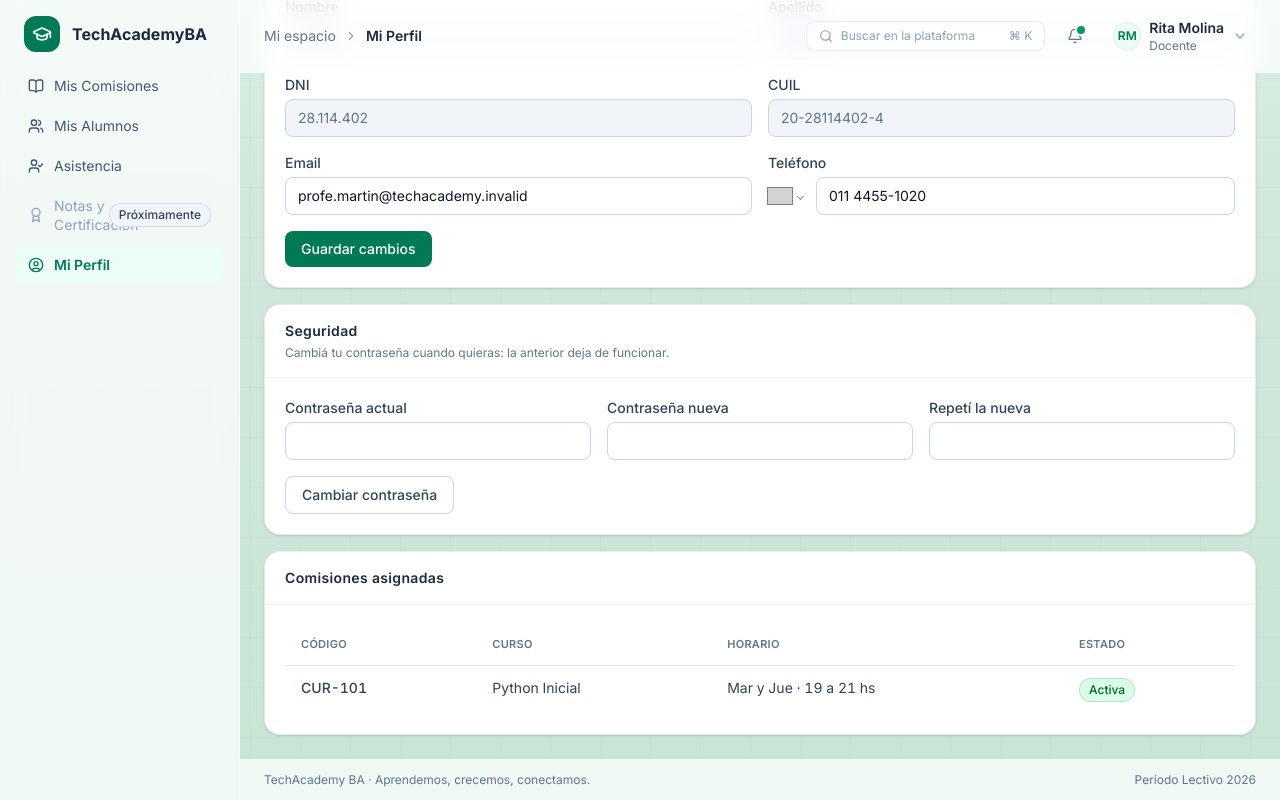
Test case: seguridad › cambia la contraseña con la actual correcta
This screenshot has width=1280, height=800.
(page scrolled)
Expected: the field showing "profe.martin@techacademy.invalid" is shown, [285, 177, 752, 215]
Type "Demo2026!" into the password field labelled "Contraseña actual" at (438, 441), box [285, 422, 591, 460]
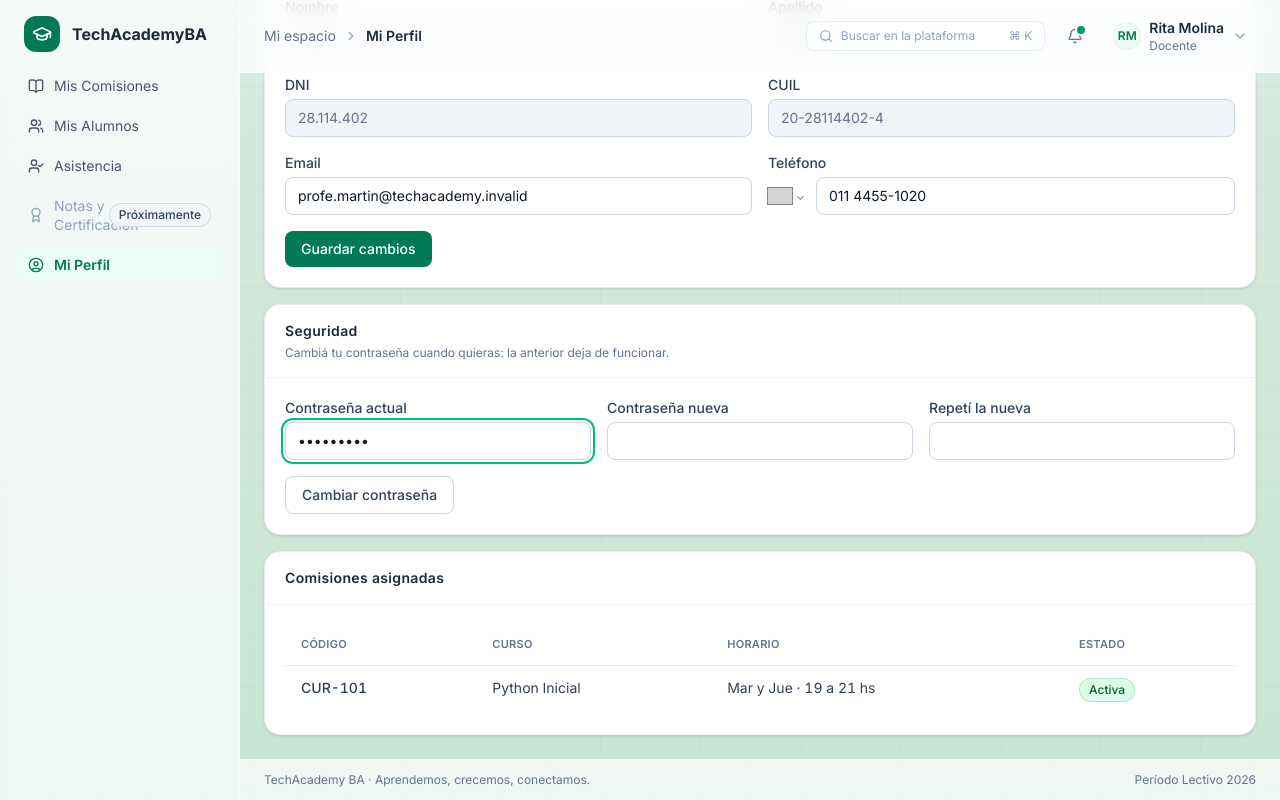
Type "NuevaClave123!" into the password field labelled "Contraseña nueva" at (760, 441), box [607, 422, 913, 460]
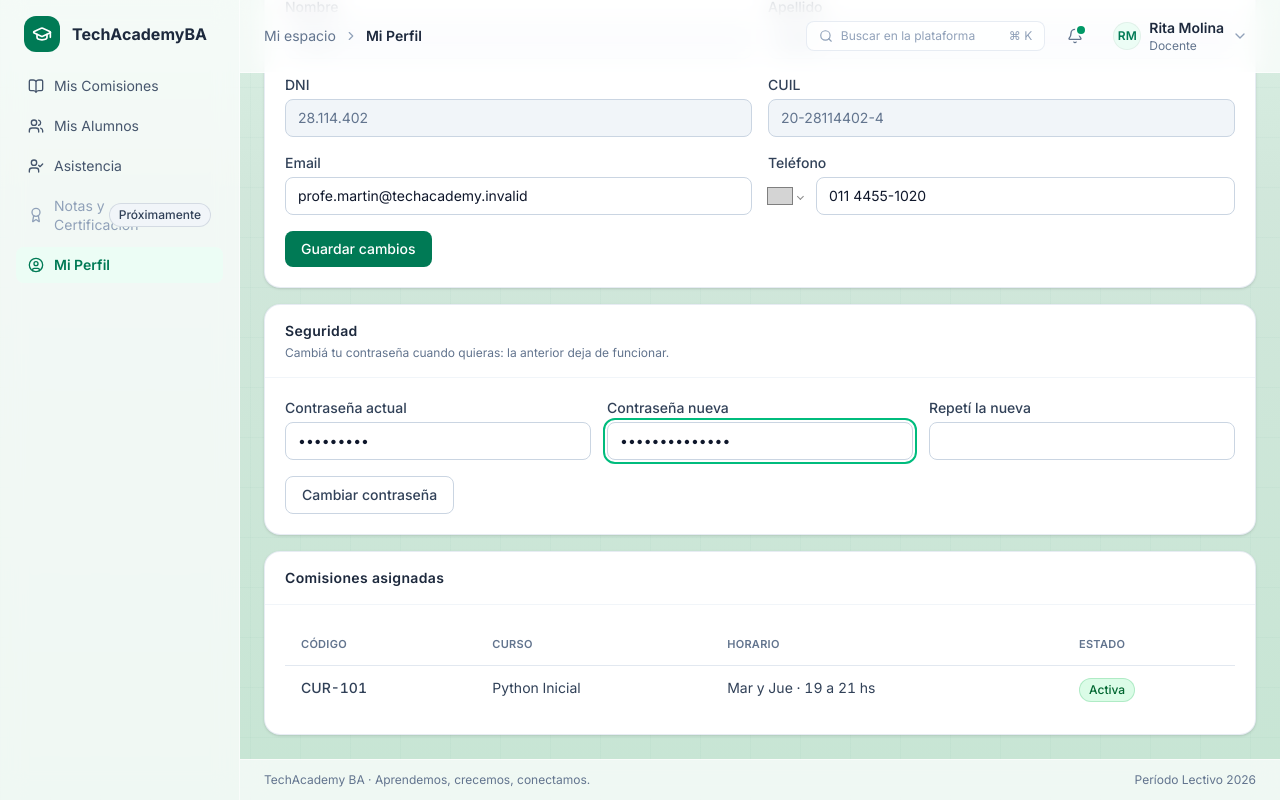
Type "NuevaClave123!" into the password field labelled "Repetí la nueva" at (1082, 441), box [929, 422, 1235, 460]
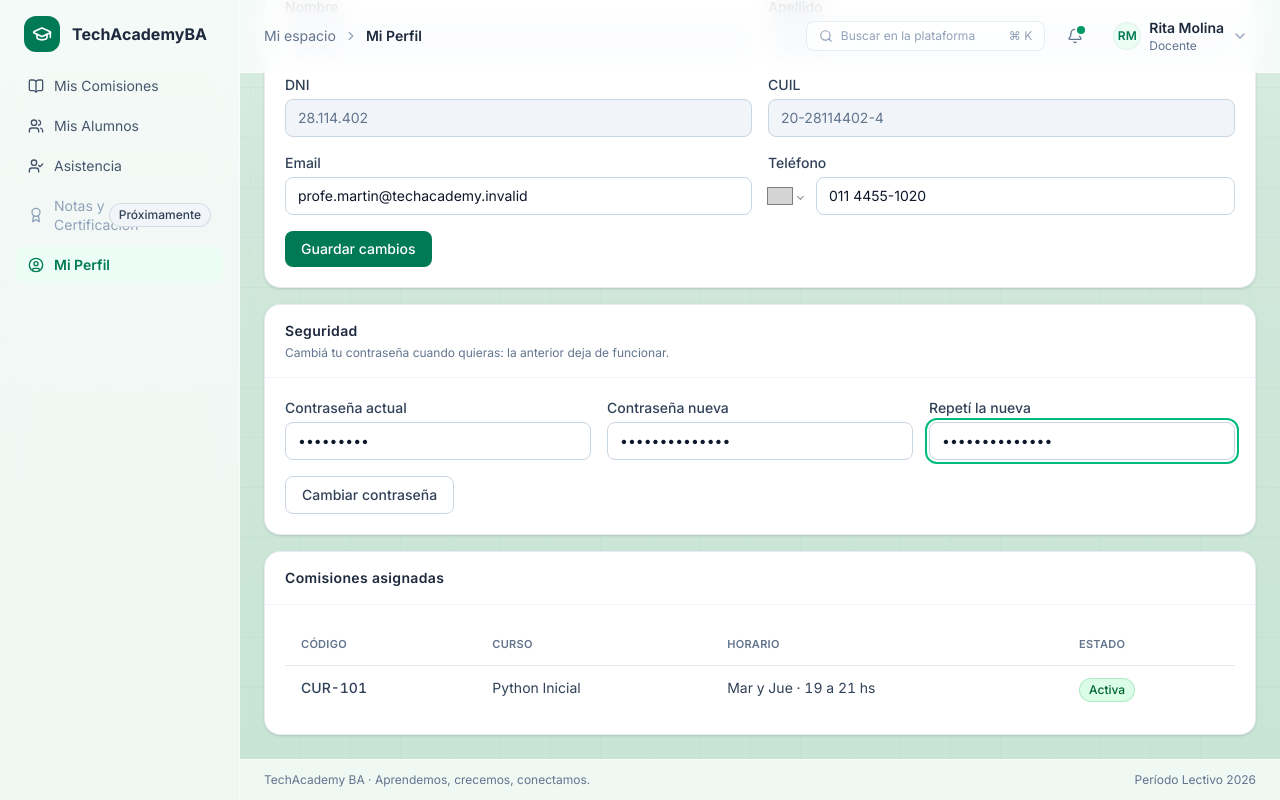
Click the button "Cambiar contraseña" at (370, 495), box [285, 476, 454, 514]
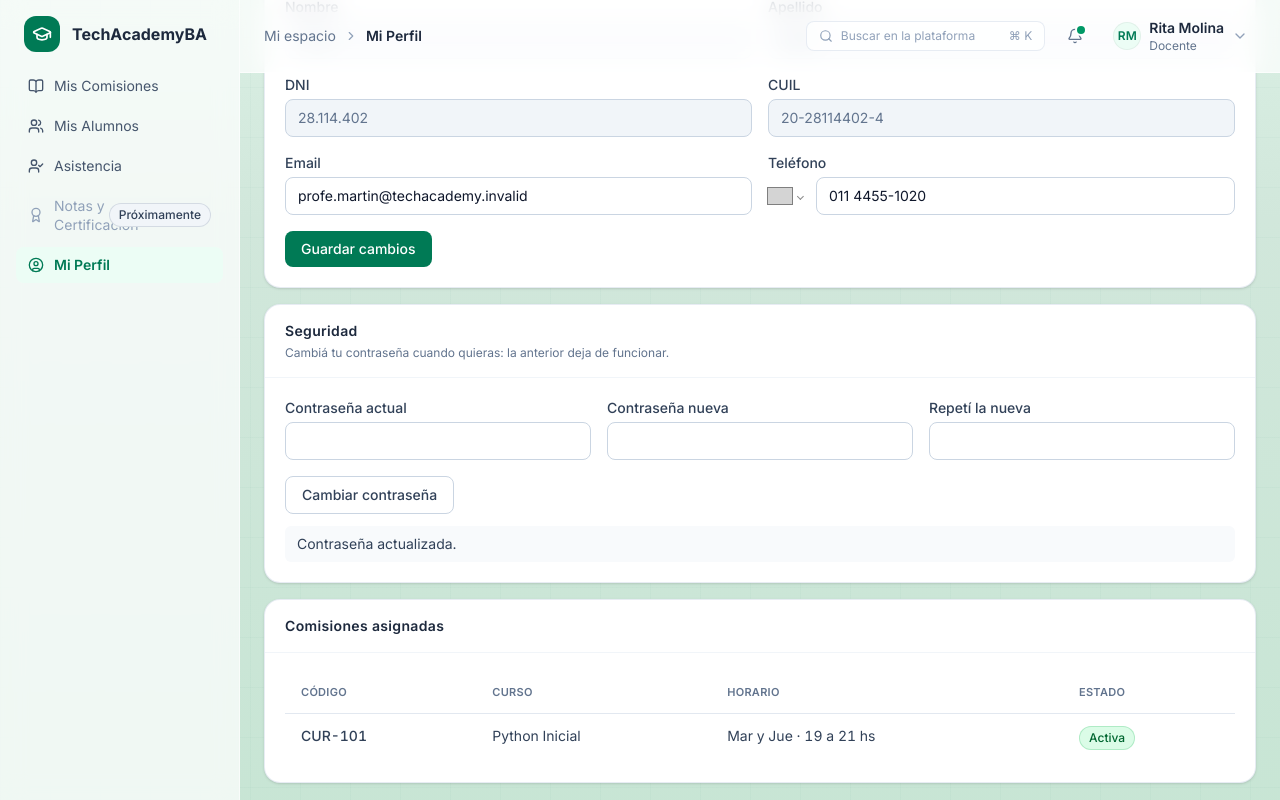
Result: the message reads "Contraseña actualizada." at [297, 535, 457, 552]
